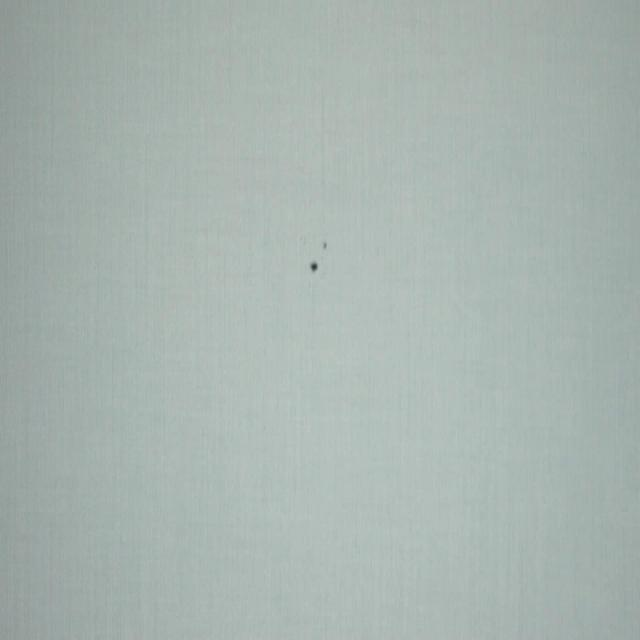dirty: (310, 261, 318, 271), (323, 242, 328, 250)
